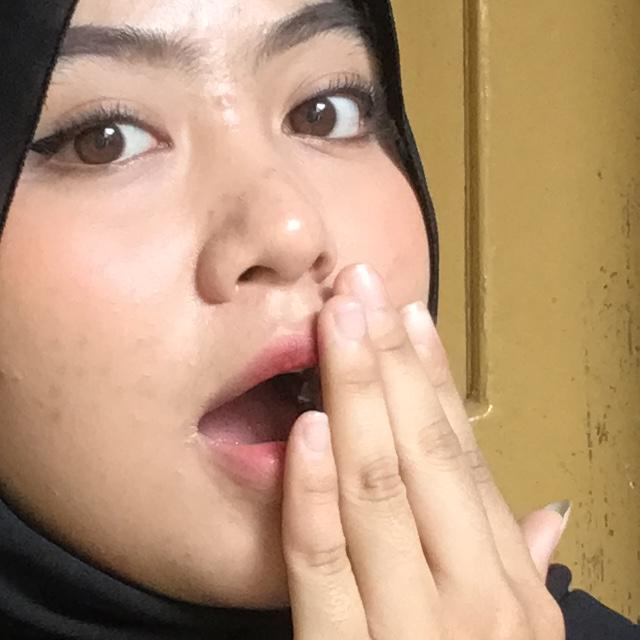ngantuk: (190, 196, 640, 640)
